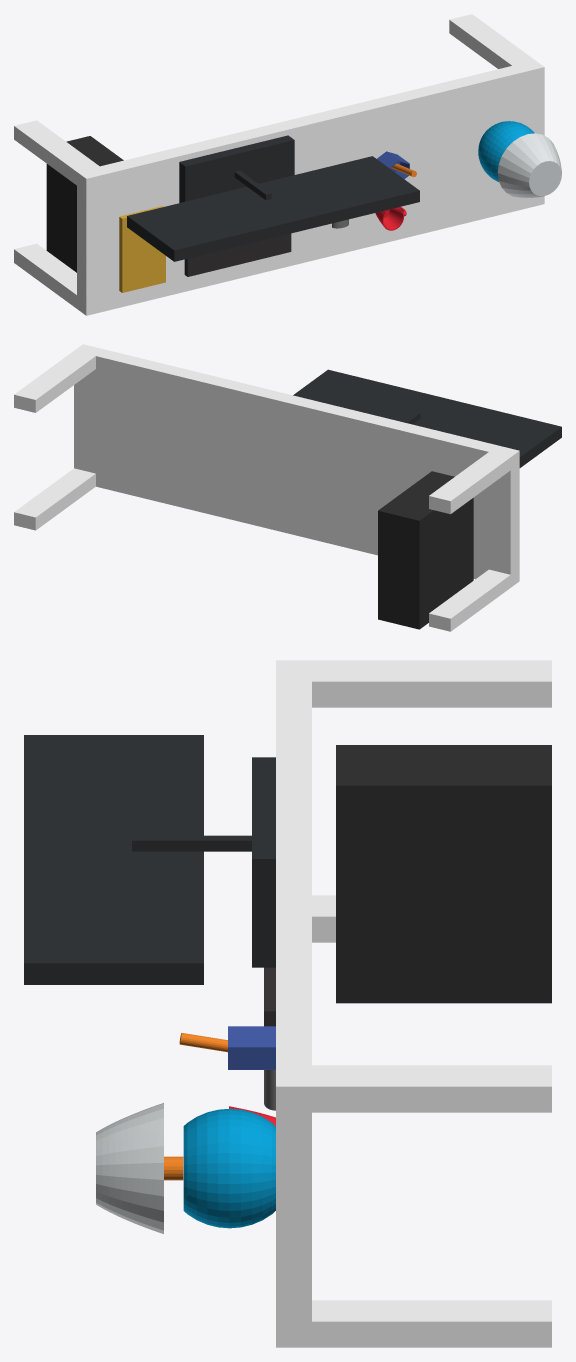
File: tinker.obj
3 renders of one model, top to bottom at view 1: azimuth 30°, elevation 25°; view 2: azimuth 150°, elevation 25°; view 3: azimuth 270°, elevation 25°, orthographic. The views are drawn at different scales.
Parts seen in each view (by area): view 1: group_0_16777215, group_0_2829873, group_0_3026221, group_0_14541540, group_0_14789940, group_0_3551538, group_0_40919, group_0_15277357, group_0_3888547; view 2: group_0_16777215, group_0_3026221, group_0_2829873; view 3: group_0_16777215, group_0_3026221, group_0_2829873, group_0_40919, group_0_14541540, group_0_3888547, group_0_16089887.
Boxes of the visible parts, left/top/right/bottom form: group_0_16777215: left=14, top=14, right=544, bottom=315; group_0_2829873: left=127, top=135, right=419, bottom=261; group_0_3026221: left=46, top=136, right=123, bottom=272; group_0_14541540: left=497, top=133, right=561, bottom=197; group_0_14789940: left=119, top=206, right=165, bottom=292; group_0_3551538: left=184, top=233, right=291, bottom=276; group_0_40919: left=478, top=121, right=534, bottom=181; group_0_15277357: left=375, top=206, right=406, bottom=230; group_0_3888547: left=377, top=151, right=409, bottom=178; group_0_16777215: left=14, top=344, right=519, bottom=631; group_0_3026221: left=378, top=471, right=473, bottom=629; group_0_2829873: left=293, top=369, right=561, bottom=467; group_0_16777215: left=276, top=660, right=551, bottom=1347; group_0_3026221: left=336, top=745, right=551, bottom=1003; group_0_2829873: left=24, top=735, right=275, bottom=984; group_0_40919: left=183, top=1108, right=275, bottom=1228; group_0_14541540: left=96, top=1103, right=163, bottom=1233; group_0_3888547: left=228, top=1026, right=275, bottom=1069; group_0_16089887: left=164, top=1033, right=227, bottom=1180.
Bounding box in the file's own units: 84 × 25.55 × 44.
